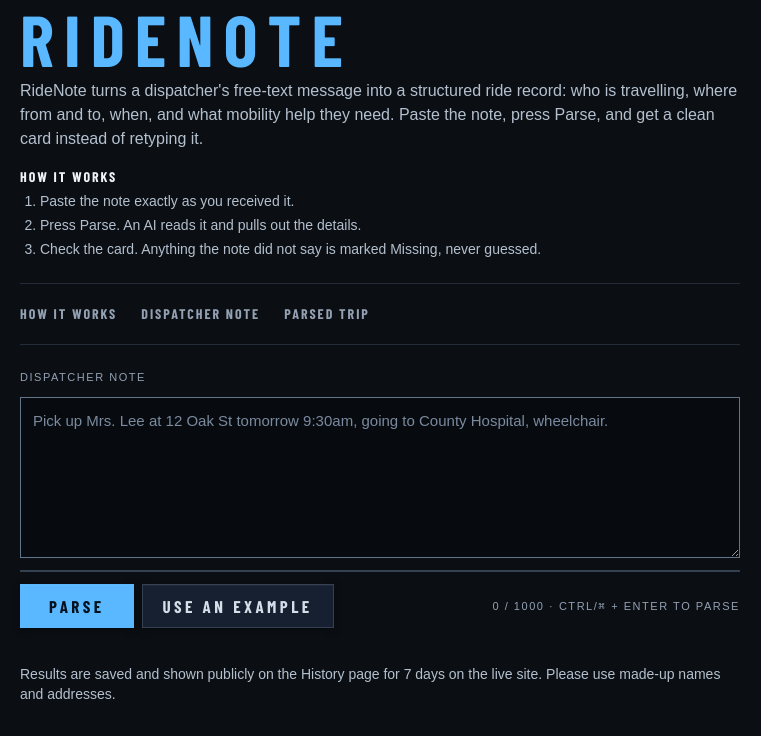
Test: accessibility (axe) › home page, showing a validation error
This screenshot has width=761, height=736.
Click the button "Parse". click: (77, 606)
box: x1=20 y1=584 x2=134 y2=628
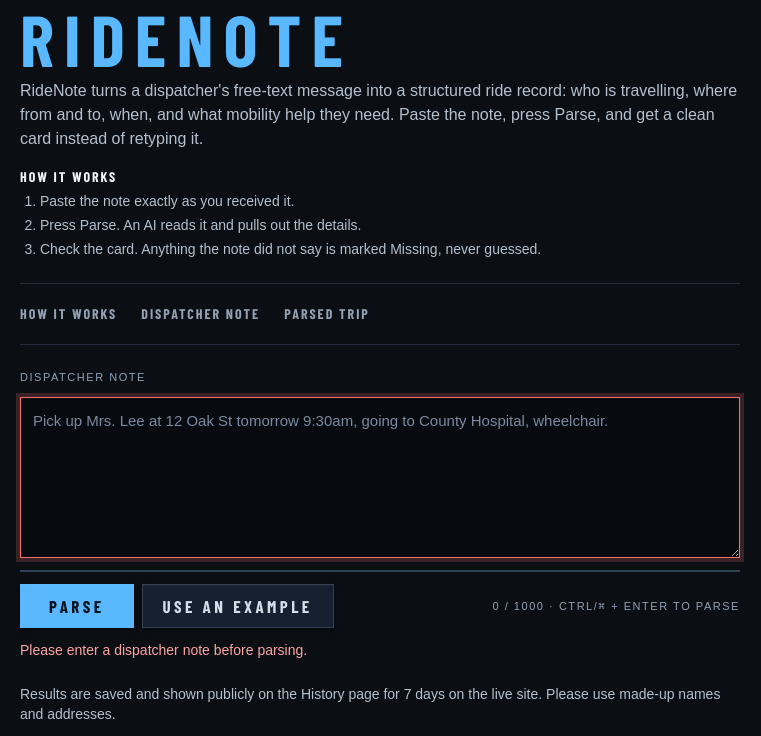
Expected: the text "Please enter a dispatcher note before parsing." is shown, x1=20 y1=642 x2=307 y2=658
